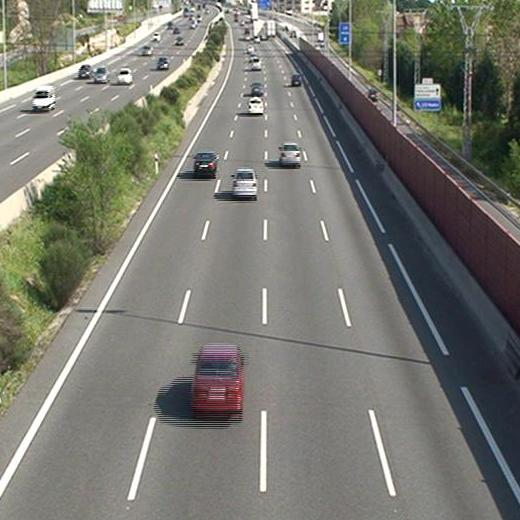car: (191, 345, 242, 413), (232, 169, 256, 196), (194, 153, 216, 176), (279, 143, 301, 165), (247, 97, 263, 115), (250, 81, 264, 95), (250, 58, 261, 71), (292, 73, 302, 86)
